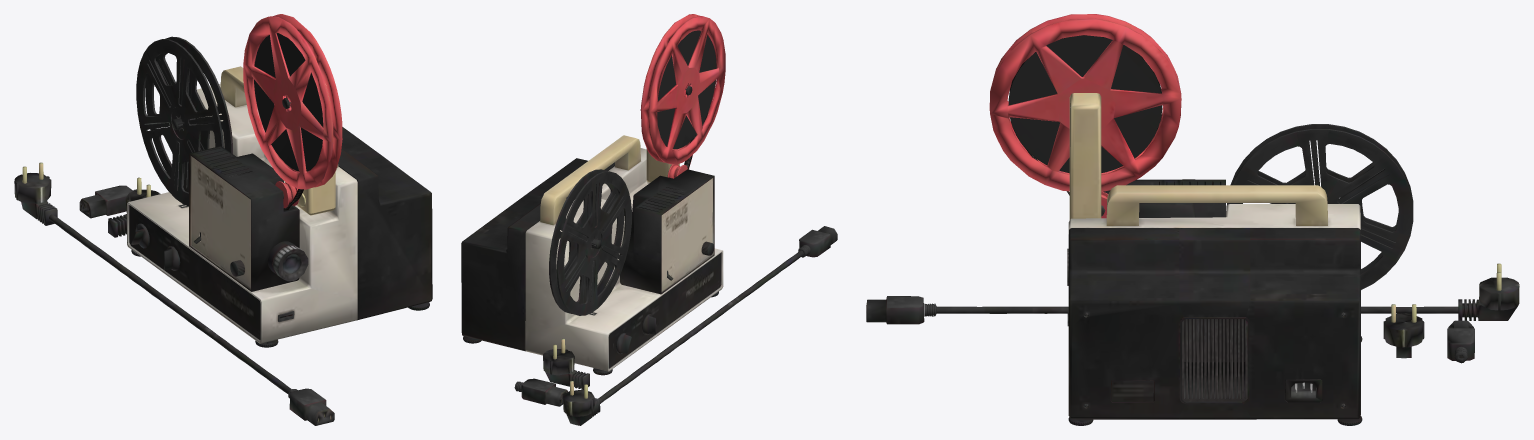
The model's file is filmstrip_projector_8mm.glb.
3 views of the same model, side by side, from view 1: azimuth 30°, elevation 25°; view 2: azimuth 150°, elevation 25°; view 3: azimuth 270°, elevation 25° (orthographic). The views are drawn at different scales.
Parts seen in each view (by area): view 1: filmstrip_projector_8mm_takeup_holder; view 2: filmstrip_projector_8mm_takeup_holder; view 3: filmstrip_projector_8mm_takeup_holder.
Part boxes in pixels (bbox=[...]): filmstrip_projector_8mm_takeup_holder: bbox=[14, 14, 432, 425]; filmstrip_projector_8mm_takeup_holder: bbox=[461, 14, 837, 425]; filmstrip_projector_8mm_takeup_holder: bbox=[866, 14, 1519, 425].
Size of the model in its own units: 0.2537 by 0.3454 by 0.6026.
2 materials, 2 textured.
